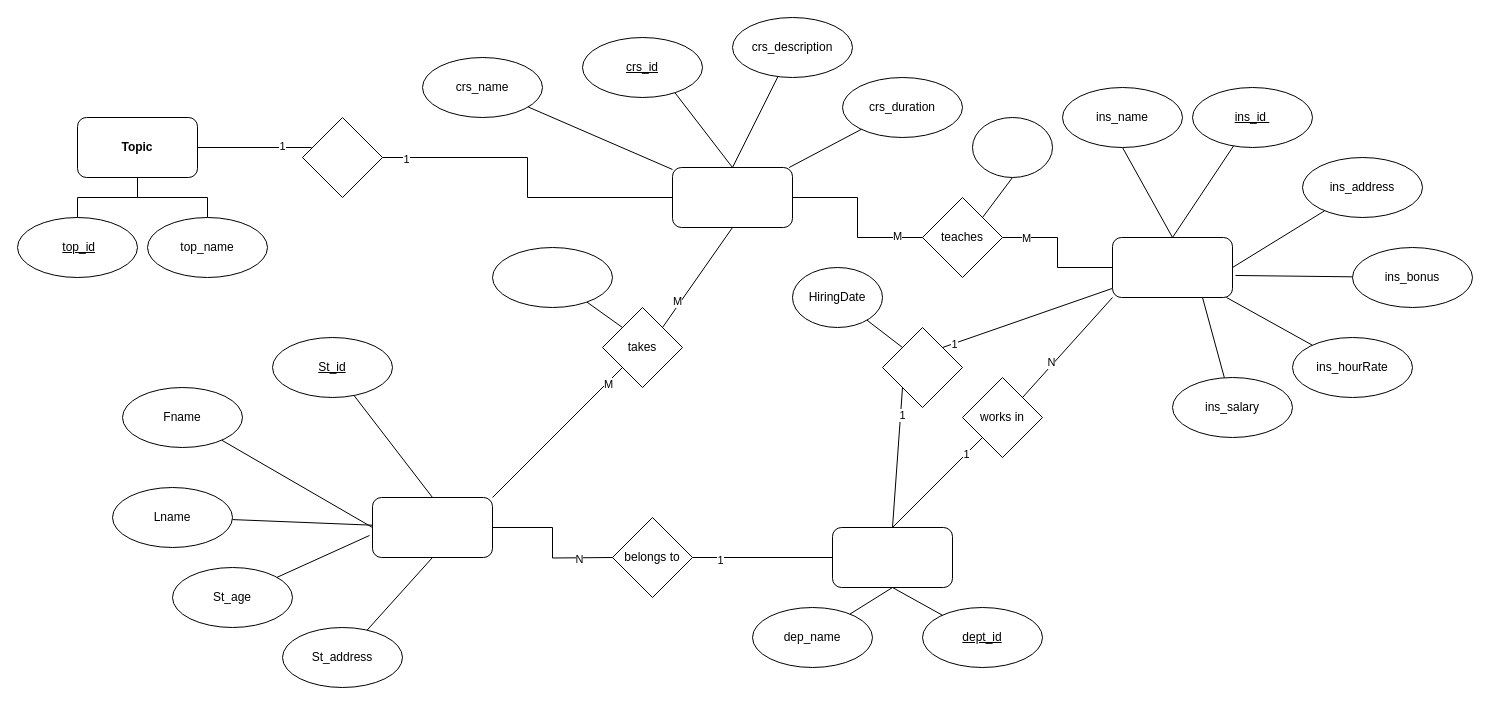
The diagram is 1490 pixels wide and 705 high, and some of its shapes have lost their labels. The shapes that lost their labels are listed below. From the top down, each one's box as (x1, y1, x2, y2) in pixels, then its label:
(302, 116, 382, 198): classified under
(972, 116, 1052, 178): evaluation
(672, 166, 792, 228): Course
(492, 246, 612, 308): grade
(1112, 236, 1232, 298): Instructor
(882, 326, 962, 408): manages
(372, 496, 492, 558): Student
(832, 526, 952, 588): Department
